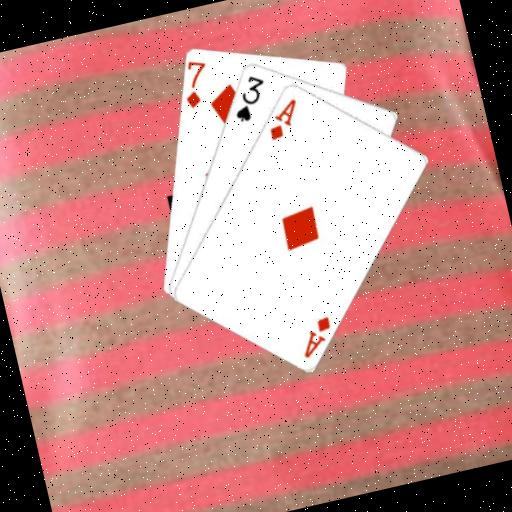3S: (224, 69, 274, 125)
7D: (174, 55, 216, 111)
AD: (260, 95, 306, 143), (293, 312, 339, 360)
